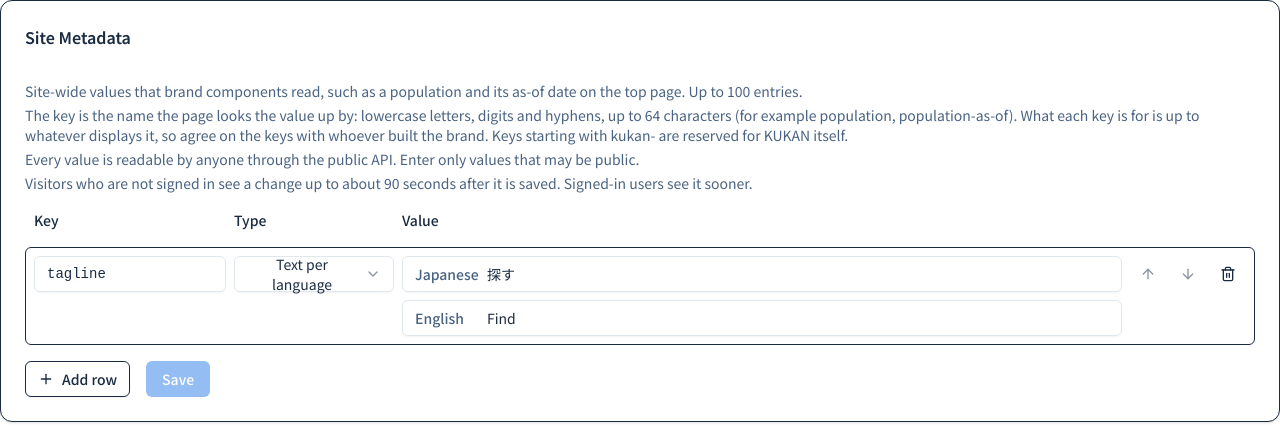
Scenario: SiteMetadataCard › should drop a language whose field is cleared
Expected: the text "Site Metadata" is shown, [25,25,131,49]
Clear the field named "Value (Japanese)" at (800, 274), box [479,256,1121,292]
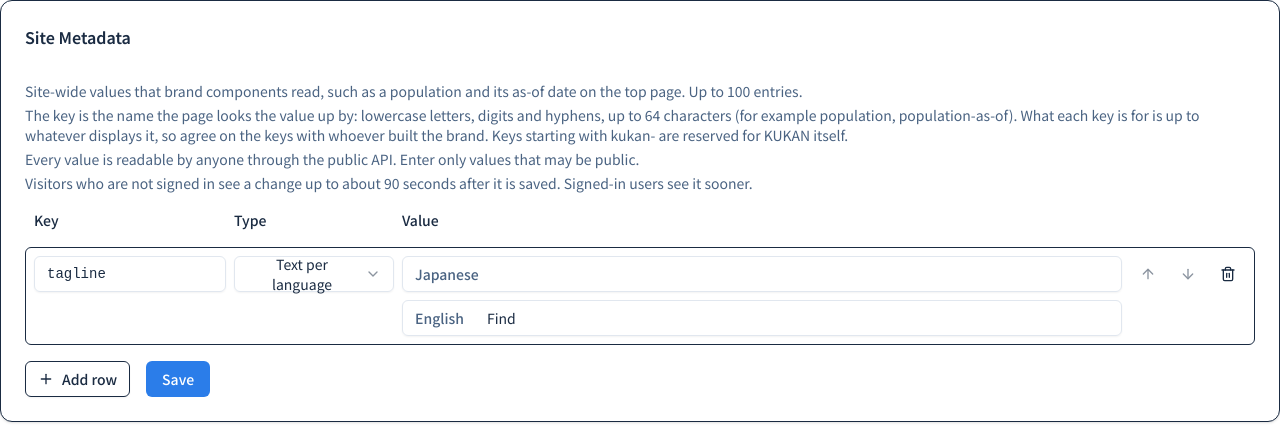
Click the button "Save" at (178, 379), box [146,361,210,397]
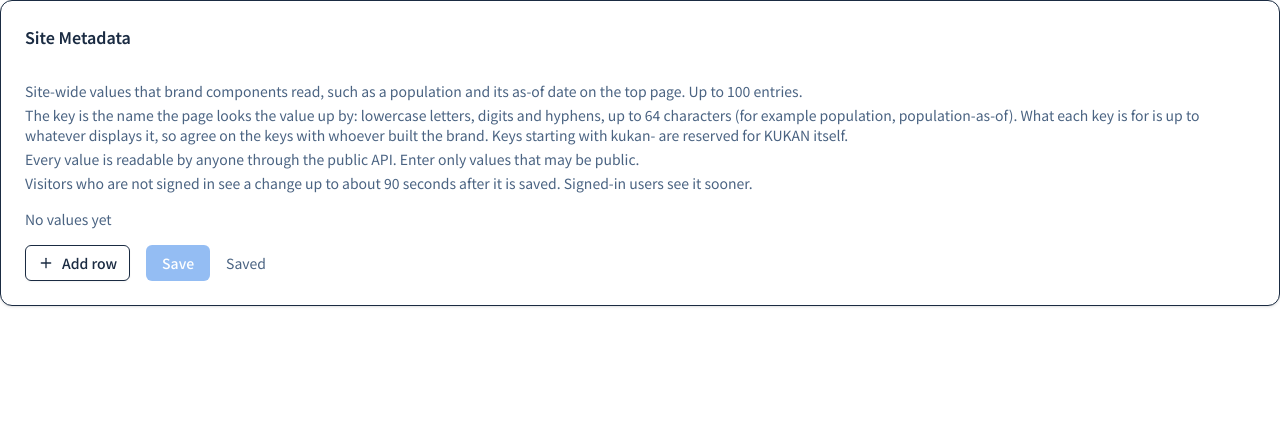
Expected: the message "Saved" is shown, [226,253,266,273]
